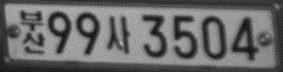0: (200, 15, 227, 60)
3: (141, 14, 167, 58)
4: (230, 17, 259, 61)
5: (172, 14, 198, 59)
9: (46, 10, 72, 54), (75, 11, 101, 55)
부산_V: (20, 9, 45, 54)
사: (105, 15, 131, 55)
